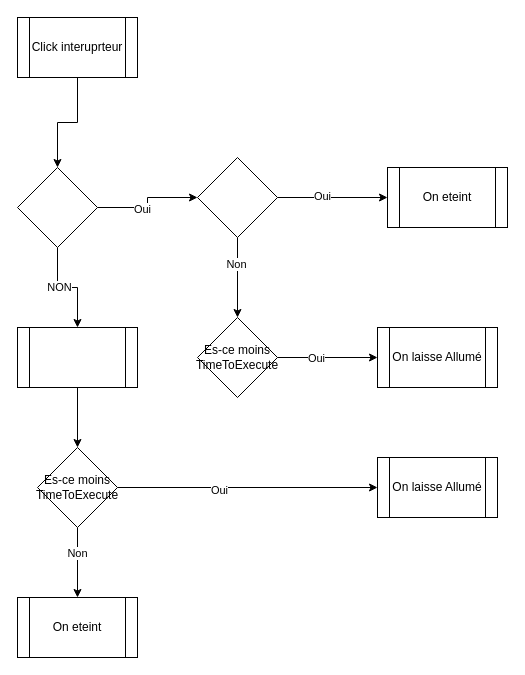
Image size: 525x675. Some labels were removed from this diagram. Each missing label, with the centre of its shape:
"Est-ce deja alumé" belongs at (x=57, y=207).
"Est-ce moins 1 minutes" belongs at (x=237, y=197).
"On Allume la plaque" belongs at (x=77, y=357).
